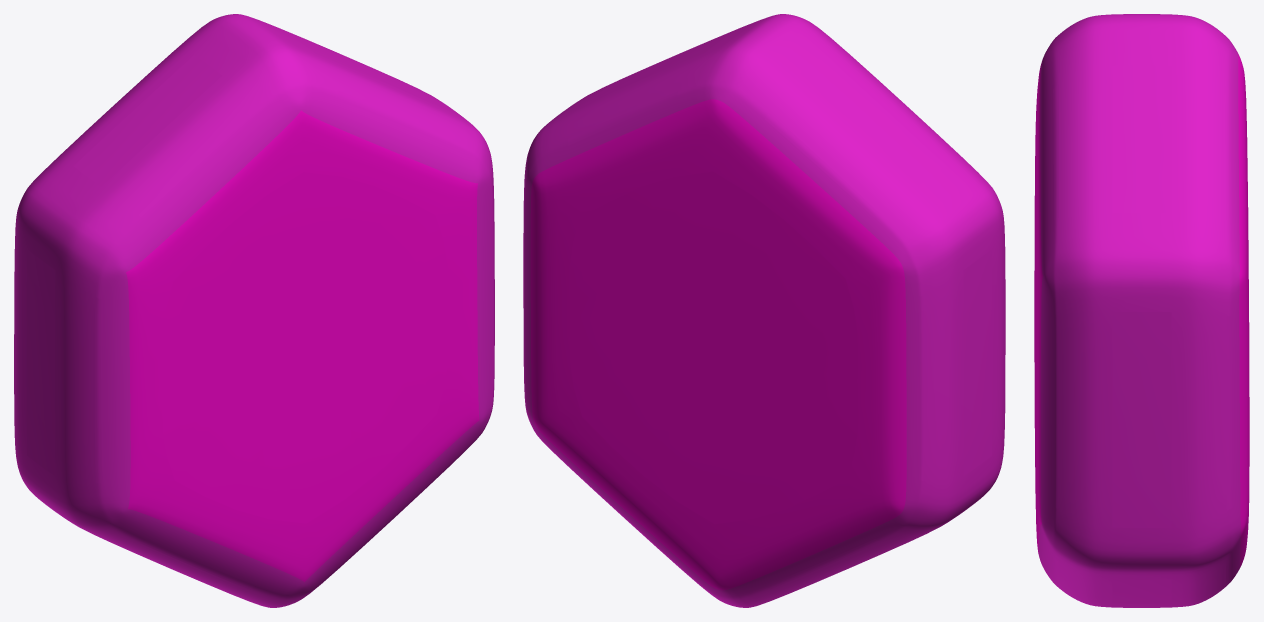
Rendered from gem.glb.
3 renders of one model, left to right at view 1: azimuth 30°, elevation 25°; view 2: azimuth 150°, elevation 25°; view 3: azimuth 270°, elevation 25°, orthographic. The views are drawn at different scales.
Visible parts, largest first — view 1: GEM; view 2: GEM; view 3: GEM.
Boxes of the visible parts, x1,y1,x2,y2 form: GEM: [14, 14, 494, 607]; GEM: [523, 14, 1005, 607]; GEM: [1034, 14, 1249, 607].
Size of the model in its own units: 1.93 by 2.42 by 0.8052.
1 material, 1 textured.
